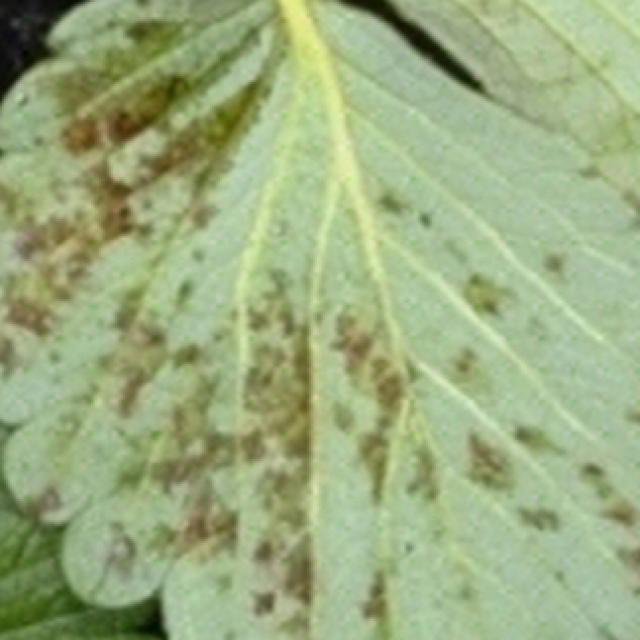Angular Leafspot: (0, 0, 640, 640)
